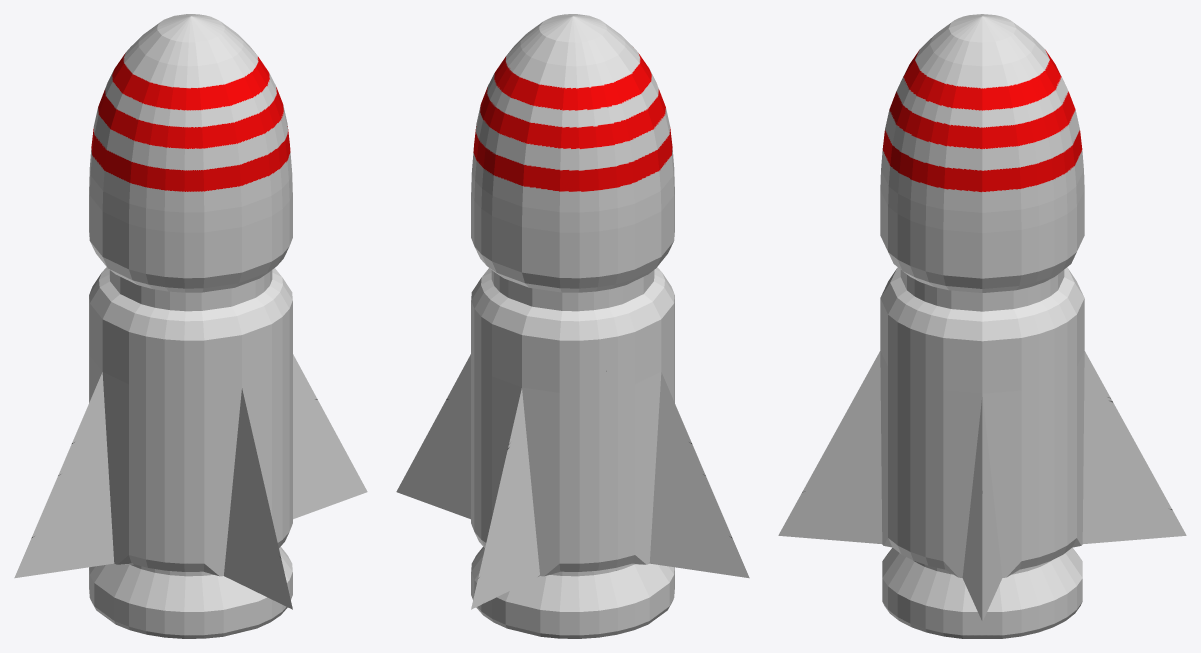
The model's file is Rocket.obj.
The picture shows the model from 3 angles, left to right: view 1: azimuth 30°, elevation 25°; view 2: azimuth 150°, elevation 25°; view 3: azimuth 270°, elevation 25°; orthographic projection.
Visible parts, largest first — view 1: Cylinder; view 2: Cylinder; view 3: Cylinder.
Part boxes in pixels (<box>): Cylinder: <box>14,14,367,638</box>; Cylinder: <box>396,14,749,638</box>; Cylinder: <box>778,14,1186,638</box>.
Bounding box in the file's own units: 4 × 6.3 × 4.
Materials: 1 (1 with a texture image).
